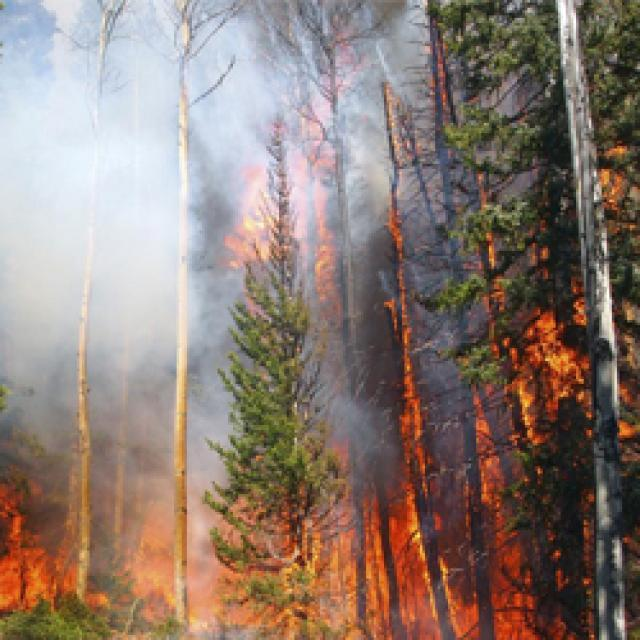Fire: (346, 84, 566, 640), (210, 114, 384, 337), (490, 261, 635, 444), (0, 454, 131, 630)
Smoke: (0, 0, 266, 467), (0, 0, 482, 175), (112, 374, 264, 640)
